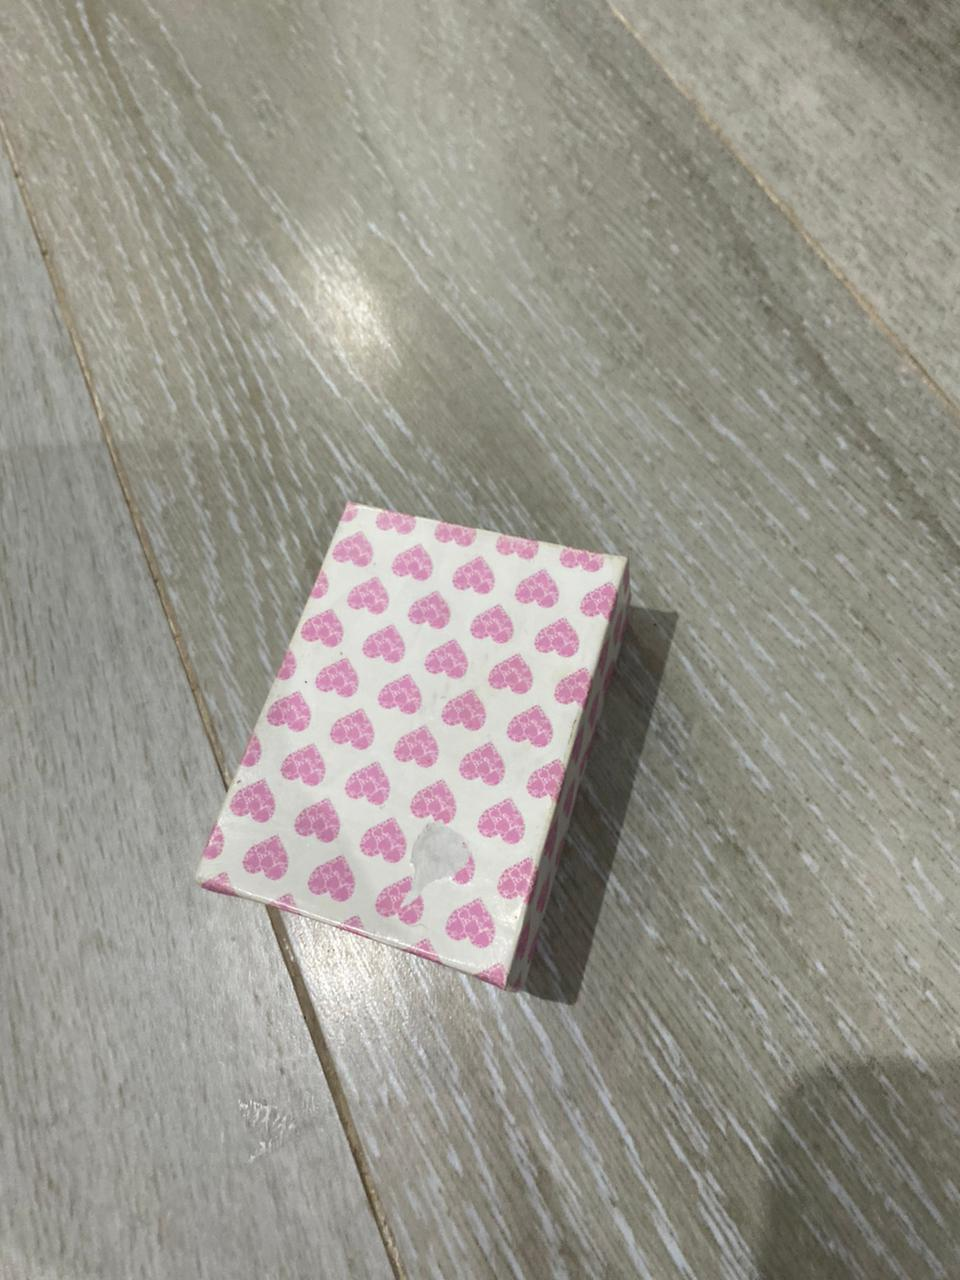Pink Box: (187, 498, 638, 1002)
